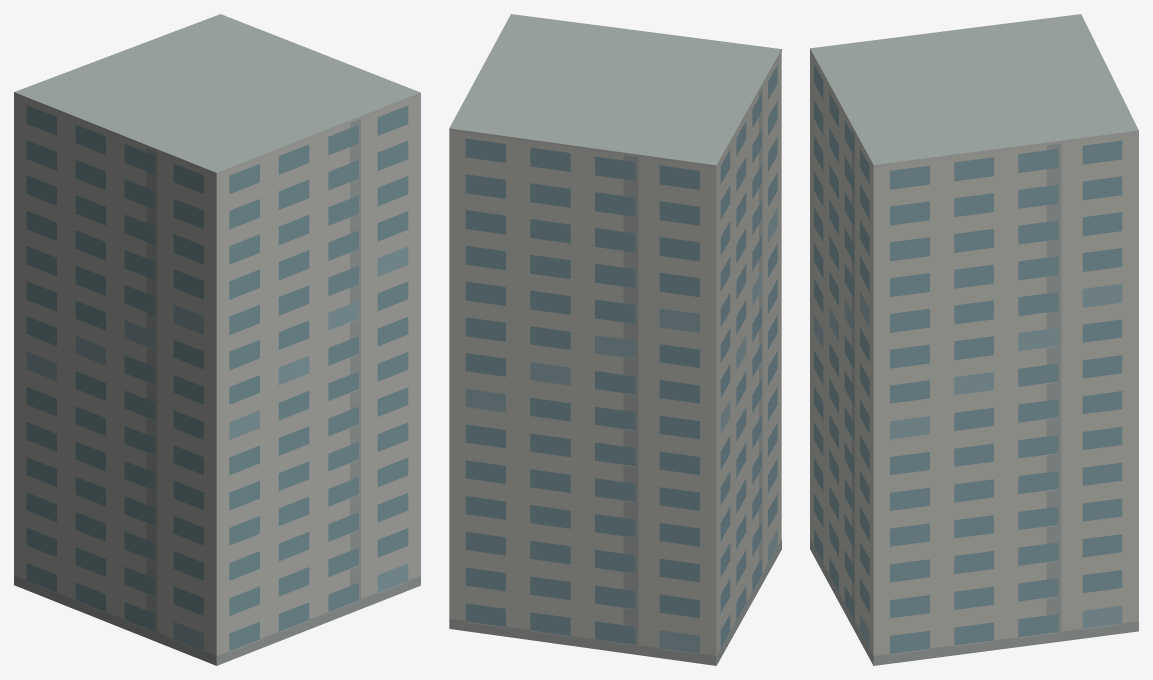
Rendered from residential-f0646557-7850-4aed-922e-9d2f0708a461.glb.
3 renders of one model, left to right at view 1: azimuth 30°, elevation 25°; view 2: azimuth 150°, elevation 25°; view 3: azimuth 270°, elevation 25°, orthographic.
Parts seen in each view (by area): view 1: residential-f0646557-7850-4aed-922e-9d2f0708a461.tmp; view 2: residential-f0646557-7850-4aed-922e-9d2f0708a461.tmp; view 3: residential-f0646557-7850-4aed-922e-9d2f0708a461.tmp.
Boxes of the visible parts, x1,y1,x2,y2 form: residential-f0646557-7850-4aed-922e-9d2f0708a461.tmp: [14, 14, 420, 665]; residential-f0646557-7850-4aed-922e-9d2f0708a461.tmp: [449, 14, 781, 665]; residential-f0646557-7850-4aed-922e-9d2f0708a461.tmp: [810, 14, 1138, 665].
Size of the model in its own units: 27.81 by 43 by 25.59.
